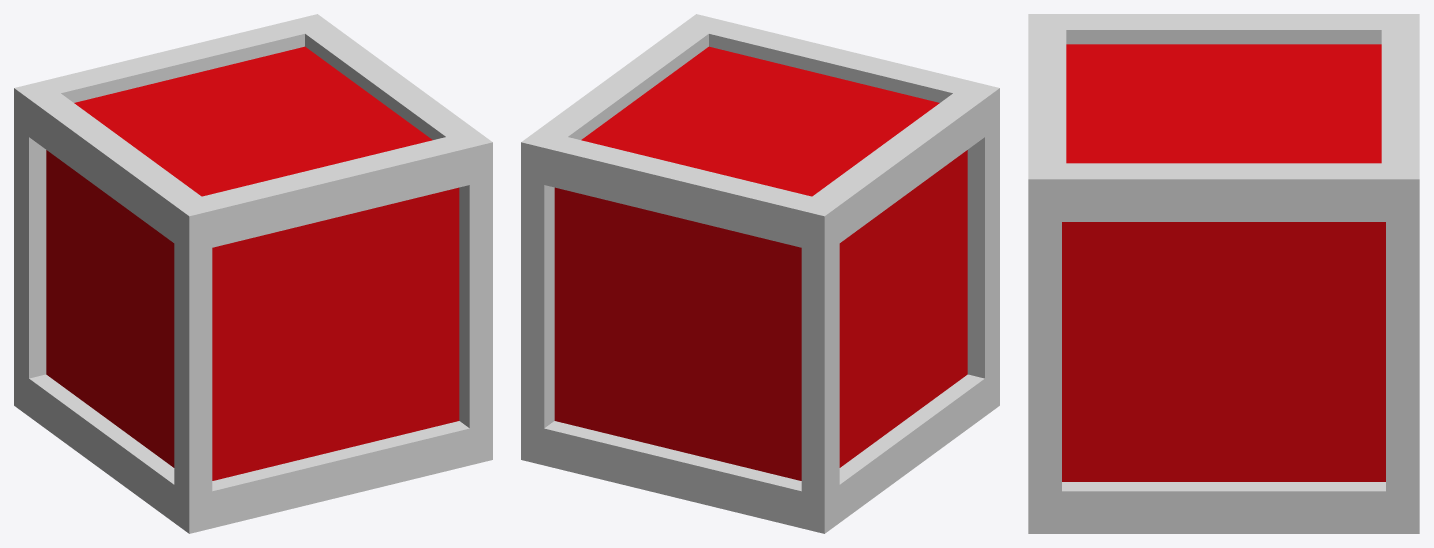
Rendered from BoxThing.fbx.
3 renders of one model, left to right at view 1: azimuth 30°, elevation 25°; view 2: azimuth 150°, elevation 25°; view 3: azimuth 270°, elevation 25°, orthographic. The views are drawn at different scales.
Parts seen in each view (by area): view 1: Cube; view 2: Cube; view 3: Cube.
Boxes of the visible parts, left/top/right/bottom form: Cube: left=14, top=14, right=492, bottom=533; Cube: left=521, top=14, right=999, bottom=533; Cube: left=1028, top=14, right=1419, bottom=533.
Bounding box in the file's own units: 200 × 200 × 200.
